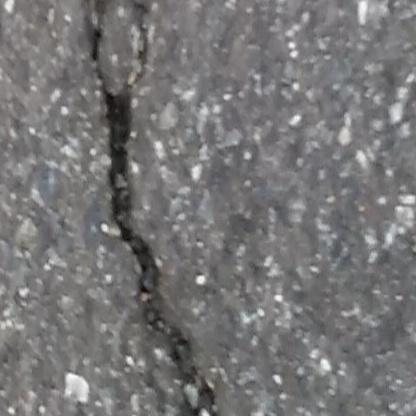Cracks: (86, 0, 229, 416)
